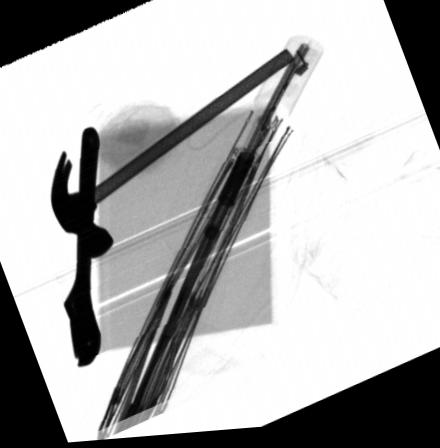Hammer: (51, 52, 294, 259)
Wrench: (62, 126, 103, 366)
